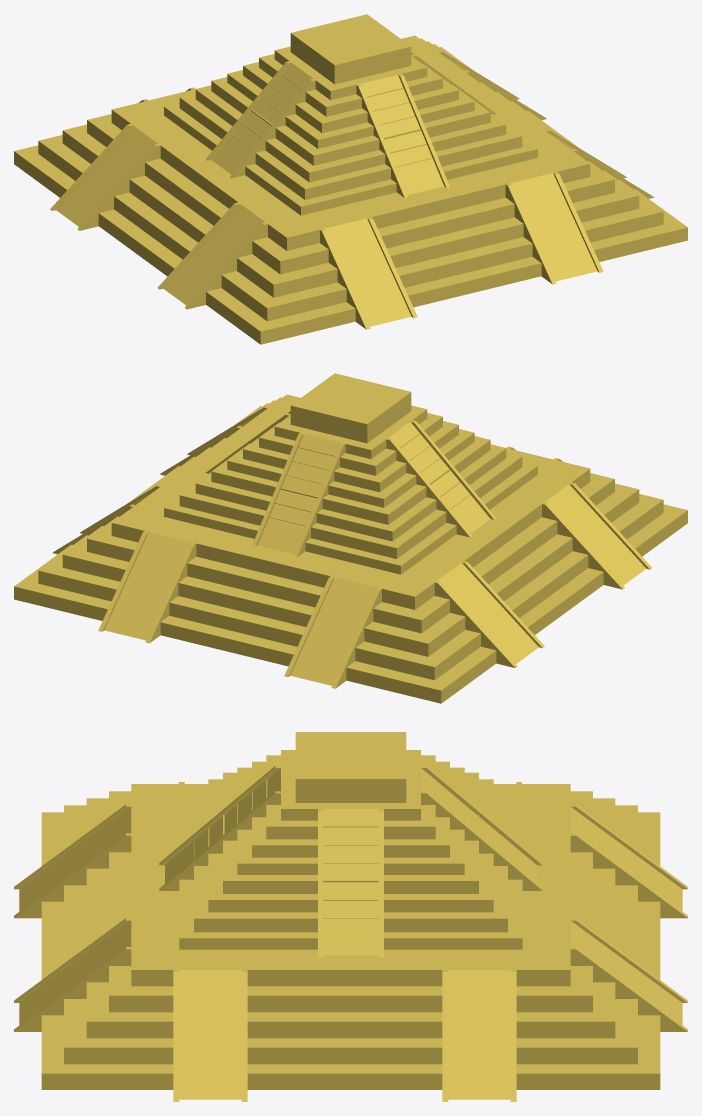
3 views of the same model, one above another, from view 1: azimuth 30°, elevation 25°; view 2: azimuth 150°, elevation 25°; view 3: azimuth 270°, elevation 25° (orthographic). The views are drawn at different scales.
Visible parts, largest first — view 1: skp4750_001; view 2: skp4750_001; view 3: skp4750_001.
Part boxes in pixels (box(x1,y1,x2,y2)): skp4750_001: box(14, 14, 687, 344); skp4750_001: box(14, 373, 687, 703); skp4750_001: box(14, 732, 687, 1101).
Size of the model in its own units: 1133886 by 378649 by 1133886.
